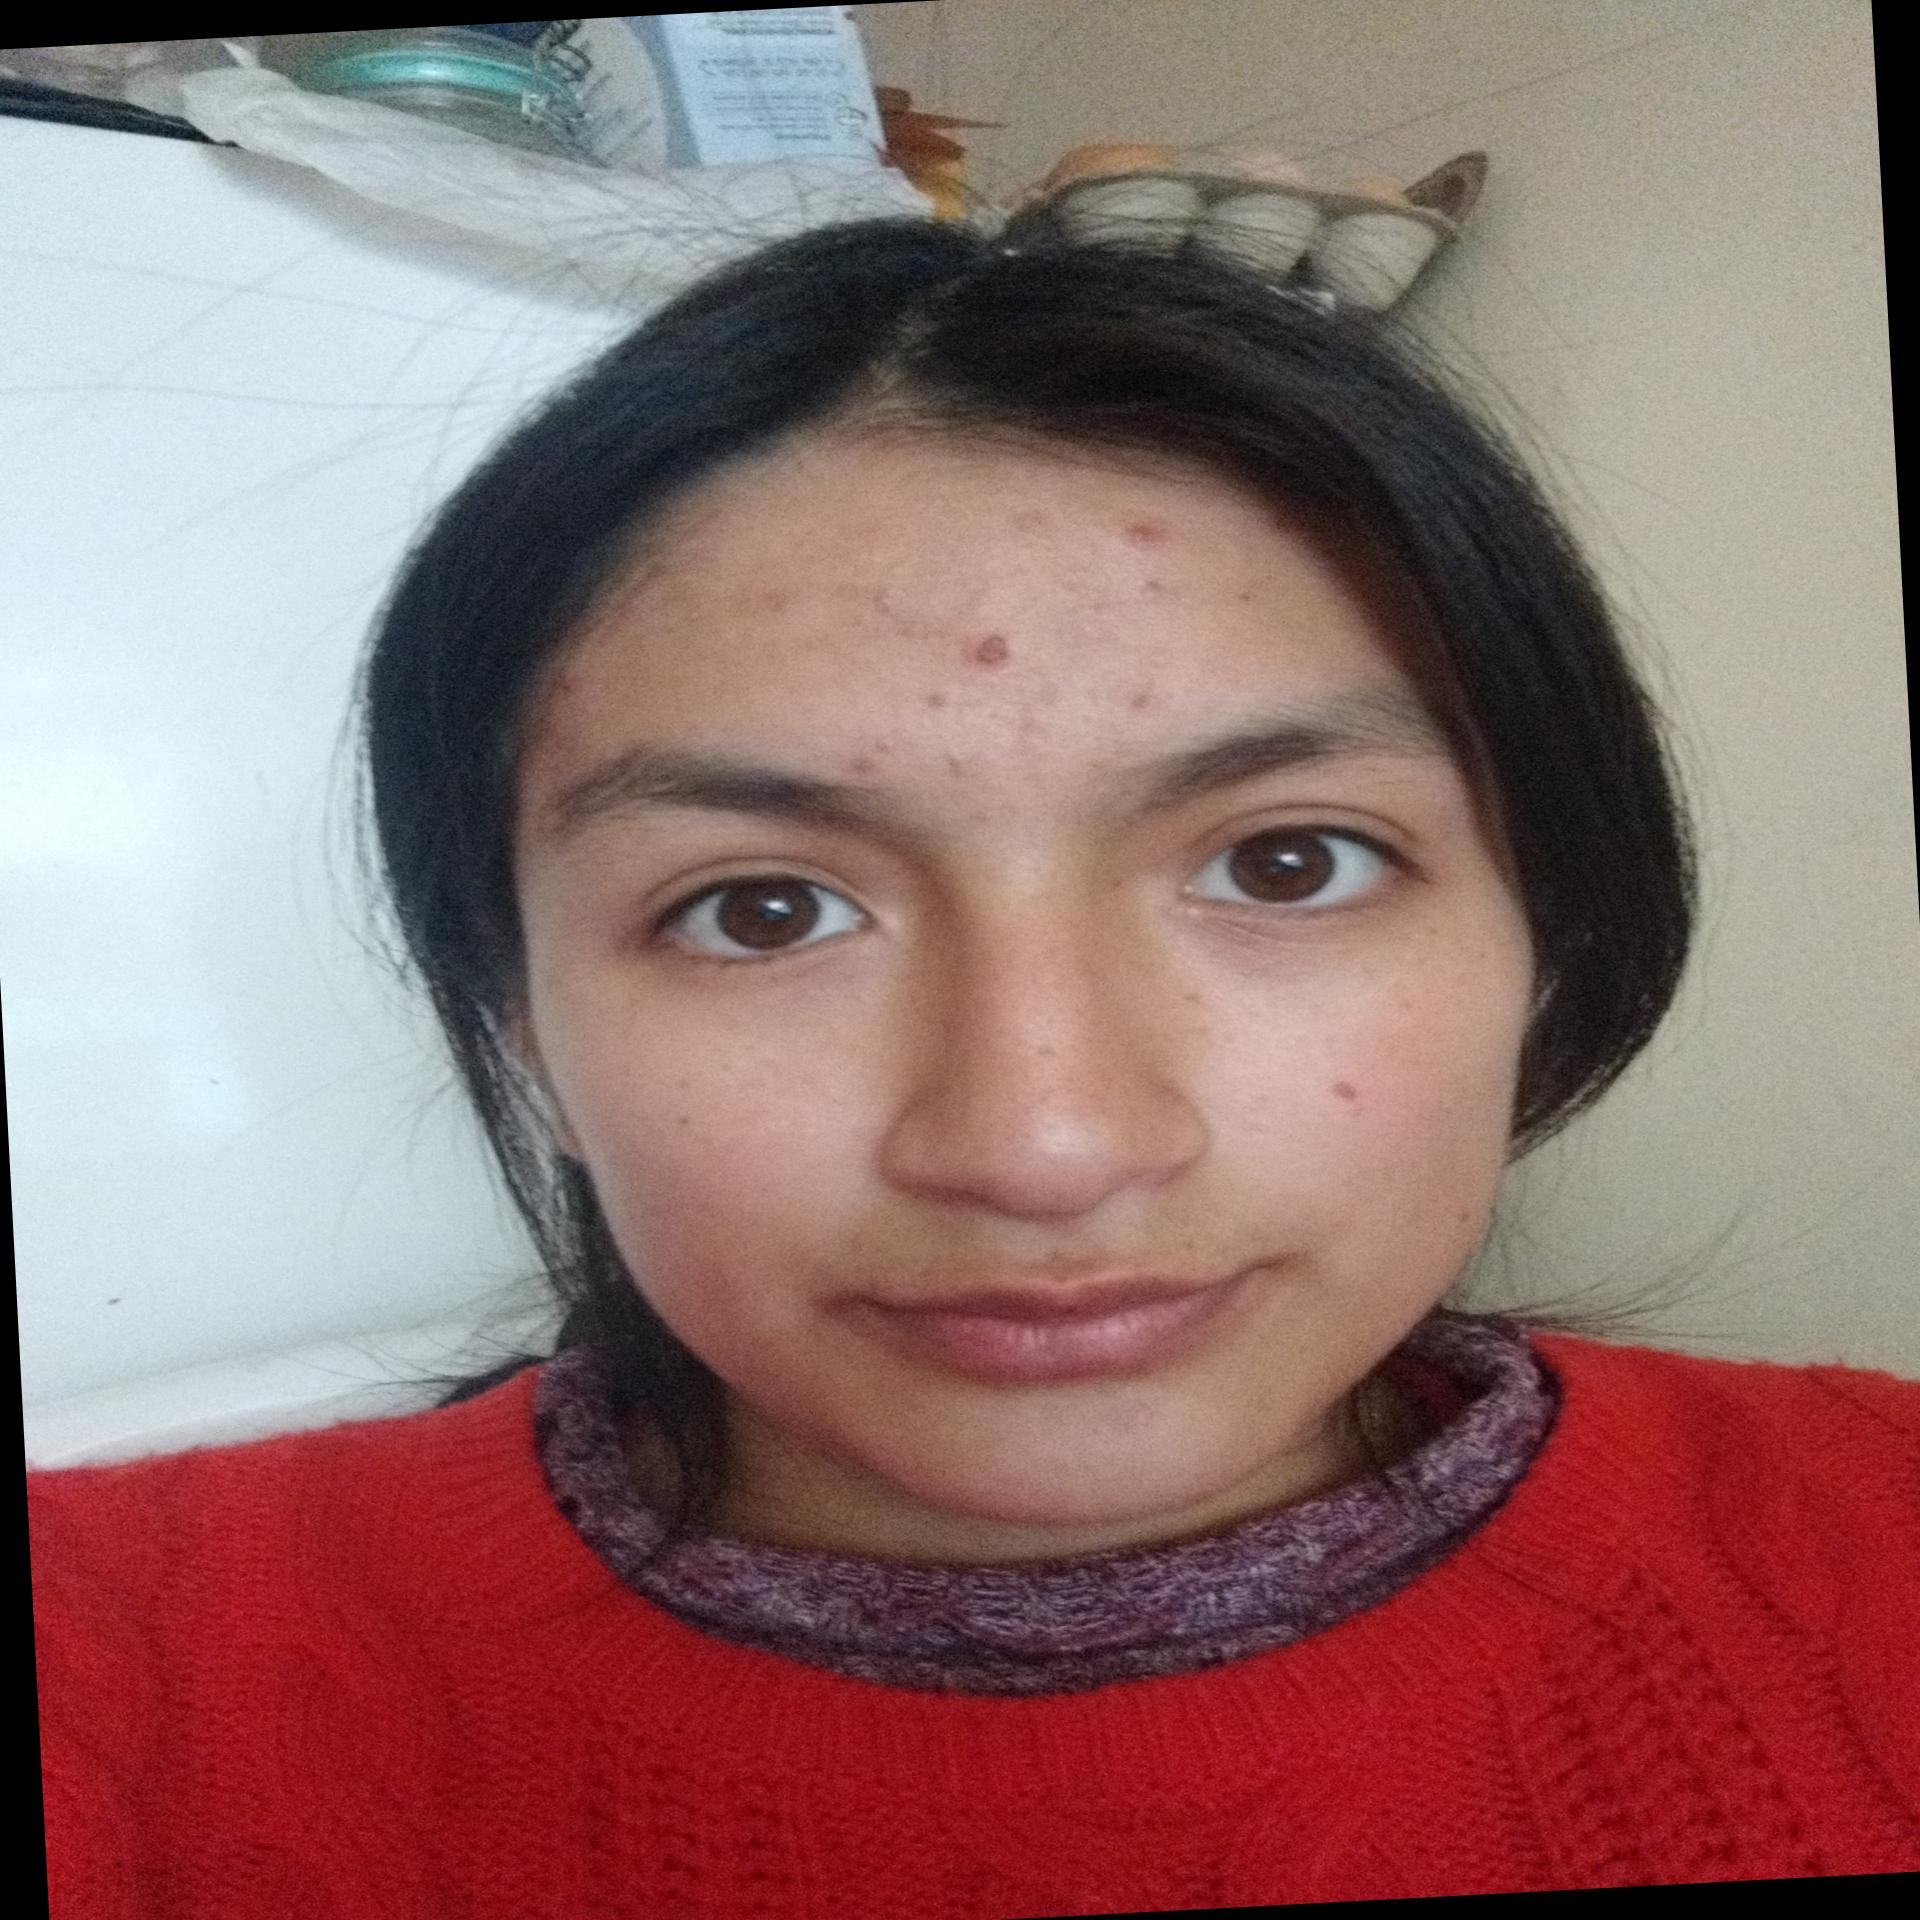Acne: (953, 628, 1032, 684), (986, 505, 1074, 547), (1111, 512, 1178, 559), (731, 582, 809, 622), (893, 679, 979, 714), (840, 738, 909, 781), (941, 738, 993, 779), (846, 585, 898, 622), (1322, 1071, 1366, 1113), (953, 793, 1002, 828), (1122, 691, 1164, 726), (1124, 573, 1167, 607), (543, 679, 584, 703), (1225, 587, 1262, 612)
